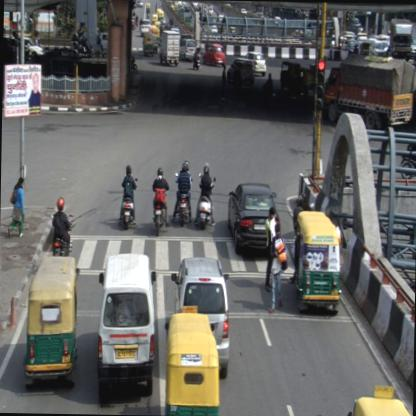car: (96, 253, 158, 401), (170, 257, 232, 380), (227, 182, 280, 258), (204, 44, 226, 70), (178, 36, 199, 62)
motorcycle: (173, 160, 195, 228), (195, 162, 216, 228), (120, 164, 138, 230), (150, 166, 166, 238)
truck: (324, 54, 414, 136), (388, 15, 412, 60)
